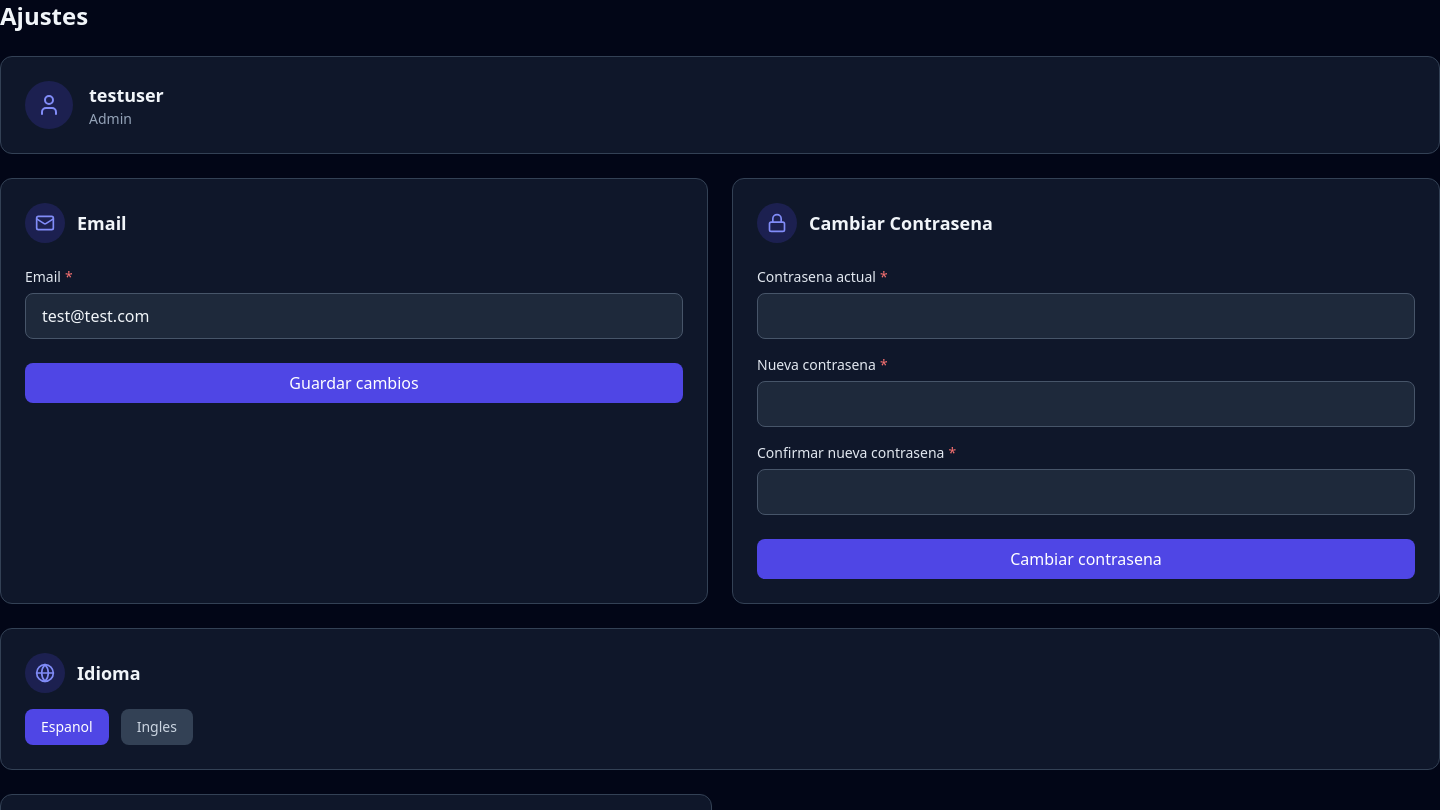
Test: SettingsPage › validates empty current password
Type "newpass12" into the password field with id "new_password".
click(1086, 404); type("newpass12")  # box x1=757 y1=381 x2=1415 y2=427
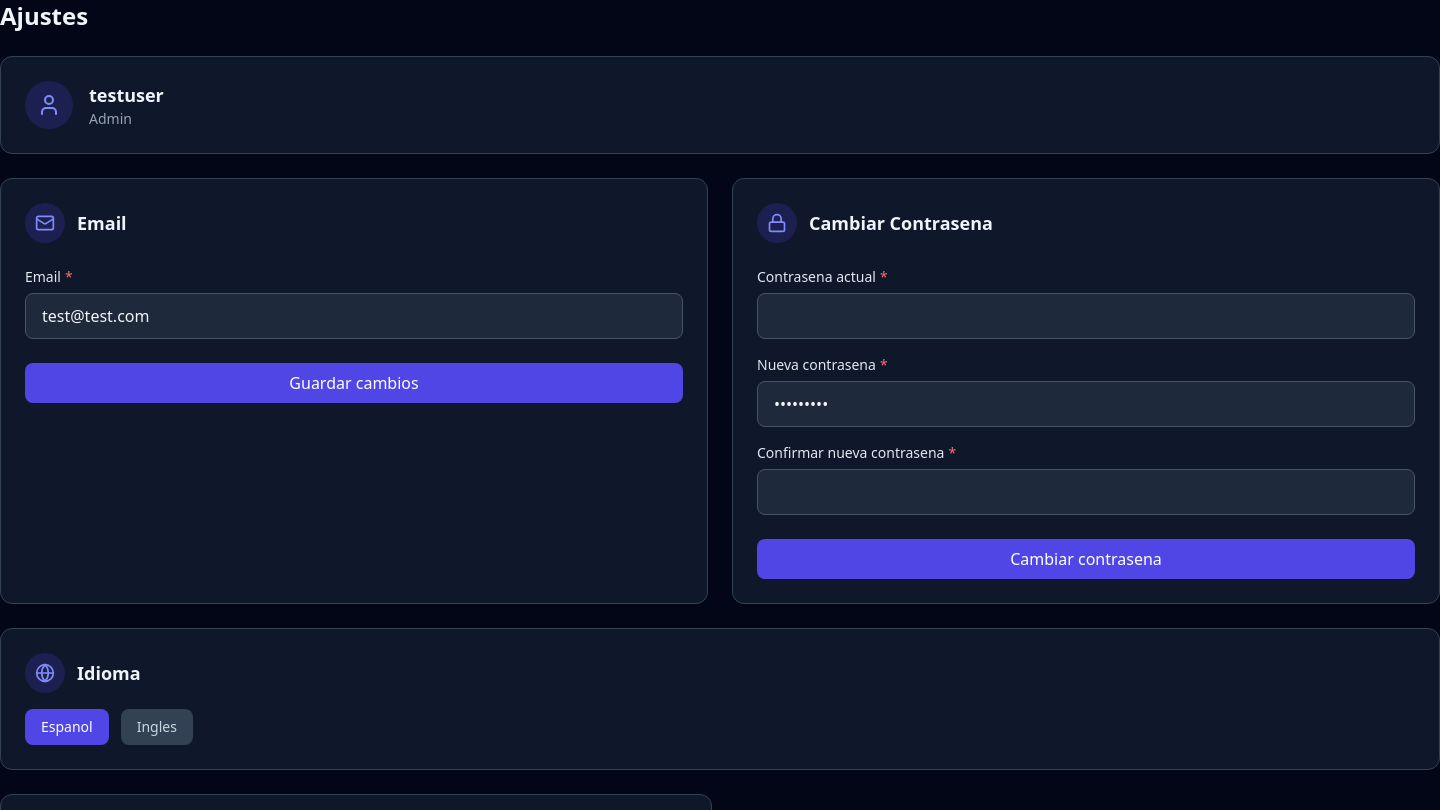
Type "newpass12" into the password field with id "confirm_password".
click(1086, 492); type("newpass12")  # box x1=757 y1=469 x2=1415 y2=515
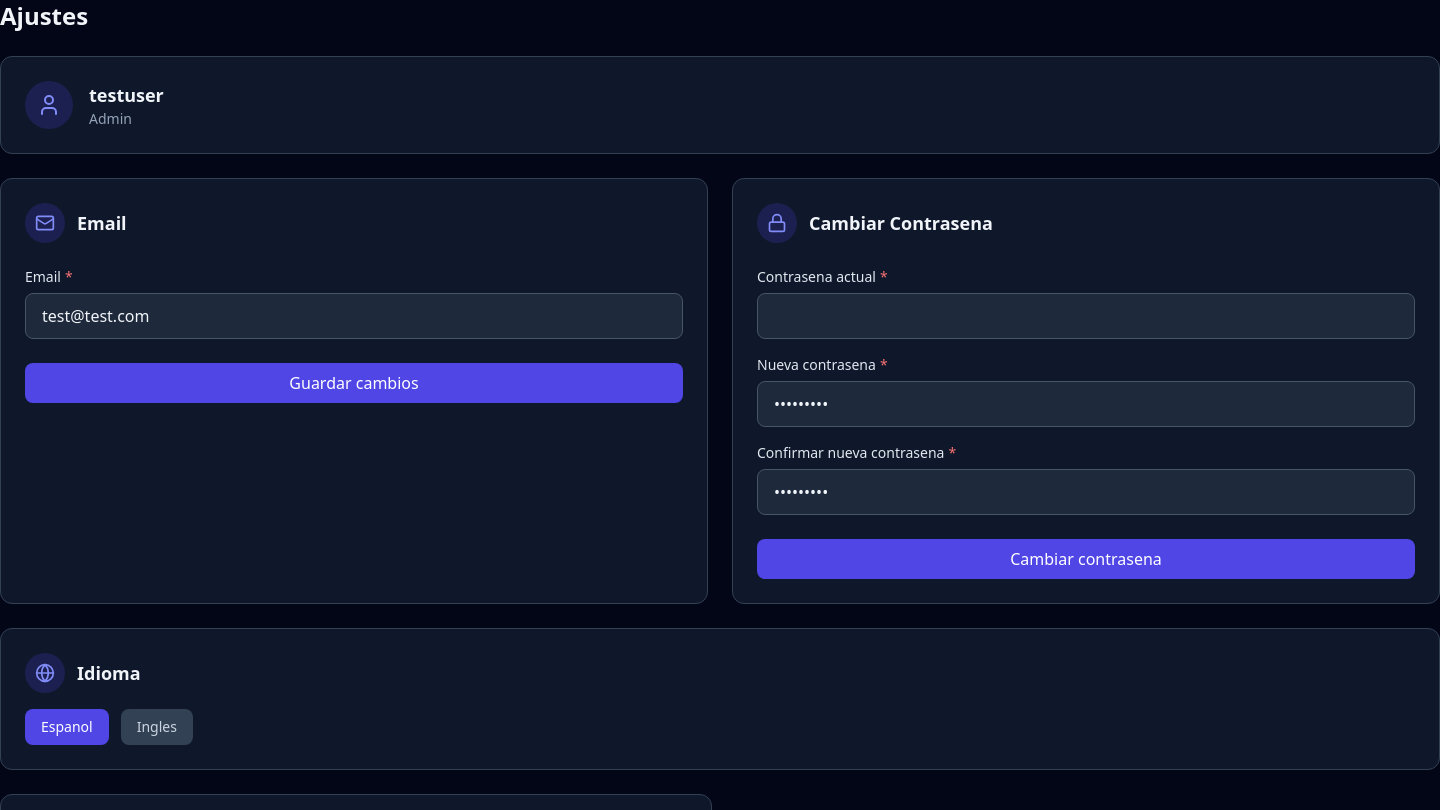
# Submit the form directly to bypass HTML5 required validation
Submit the form with id "confirm_password", box x1=757 y1=267 x2=1415 y2=579
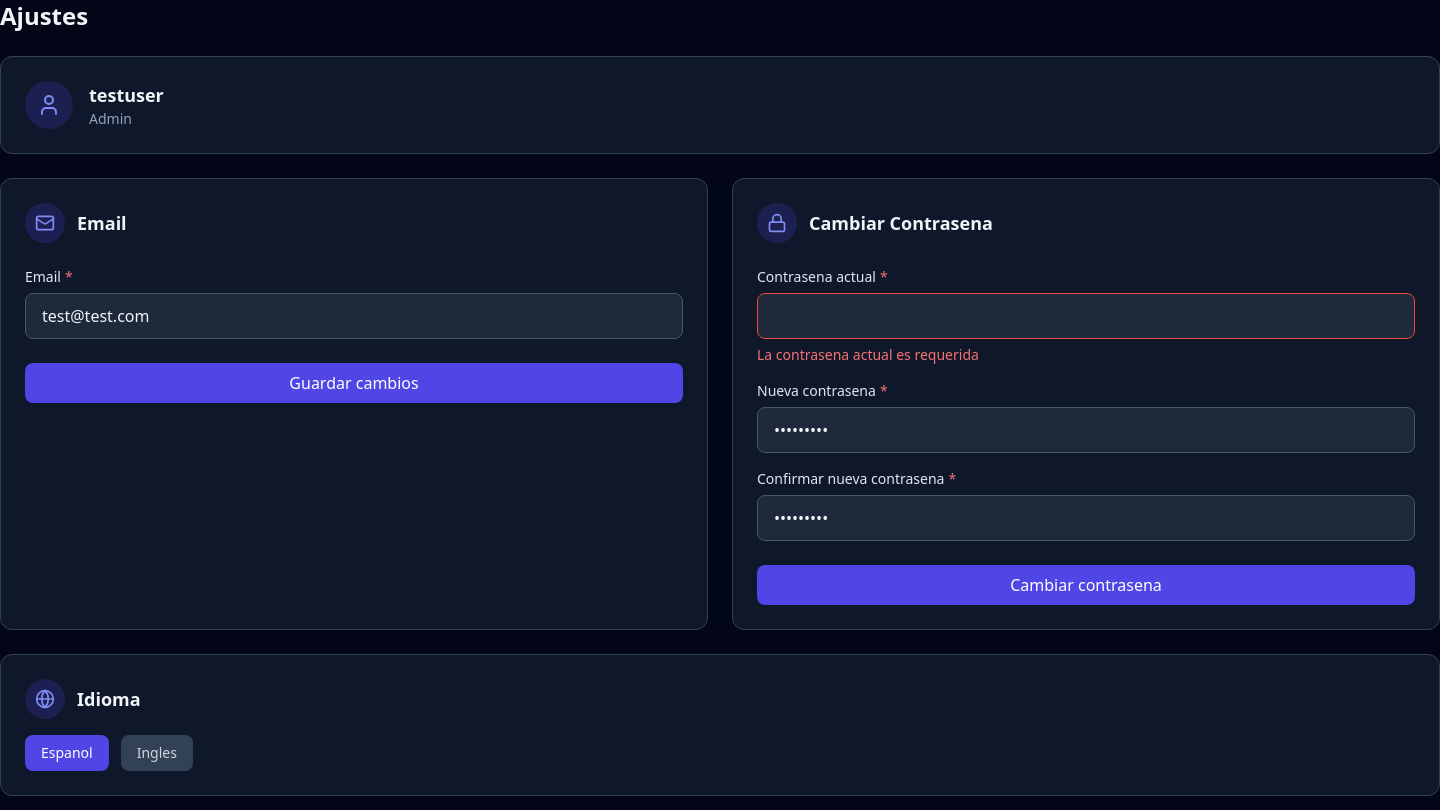
expect the text "La contrasena actual es requerida" is shown: met, box x1=757 y1=345 x2=979 y2=364
